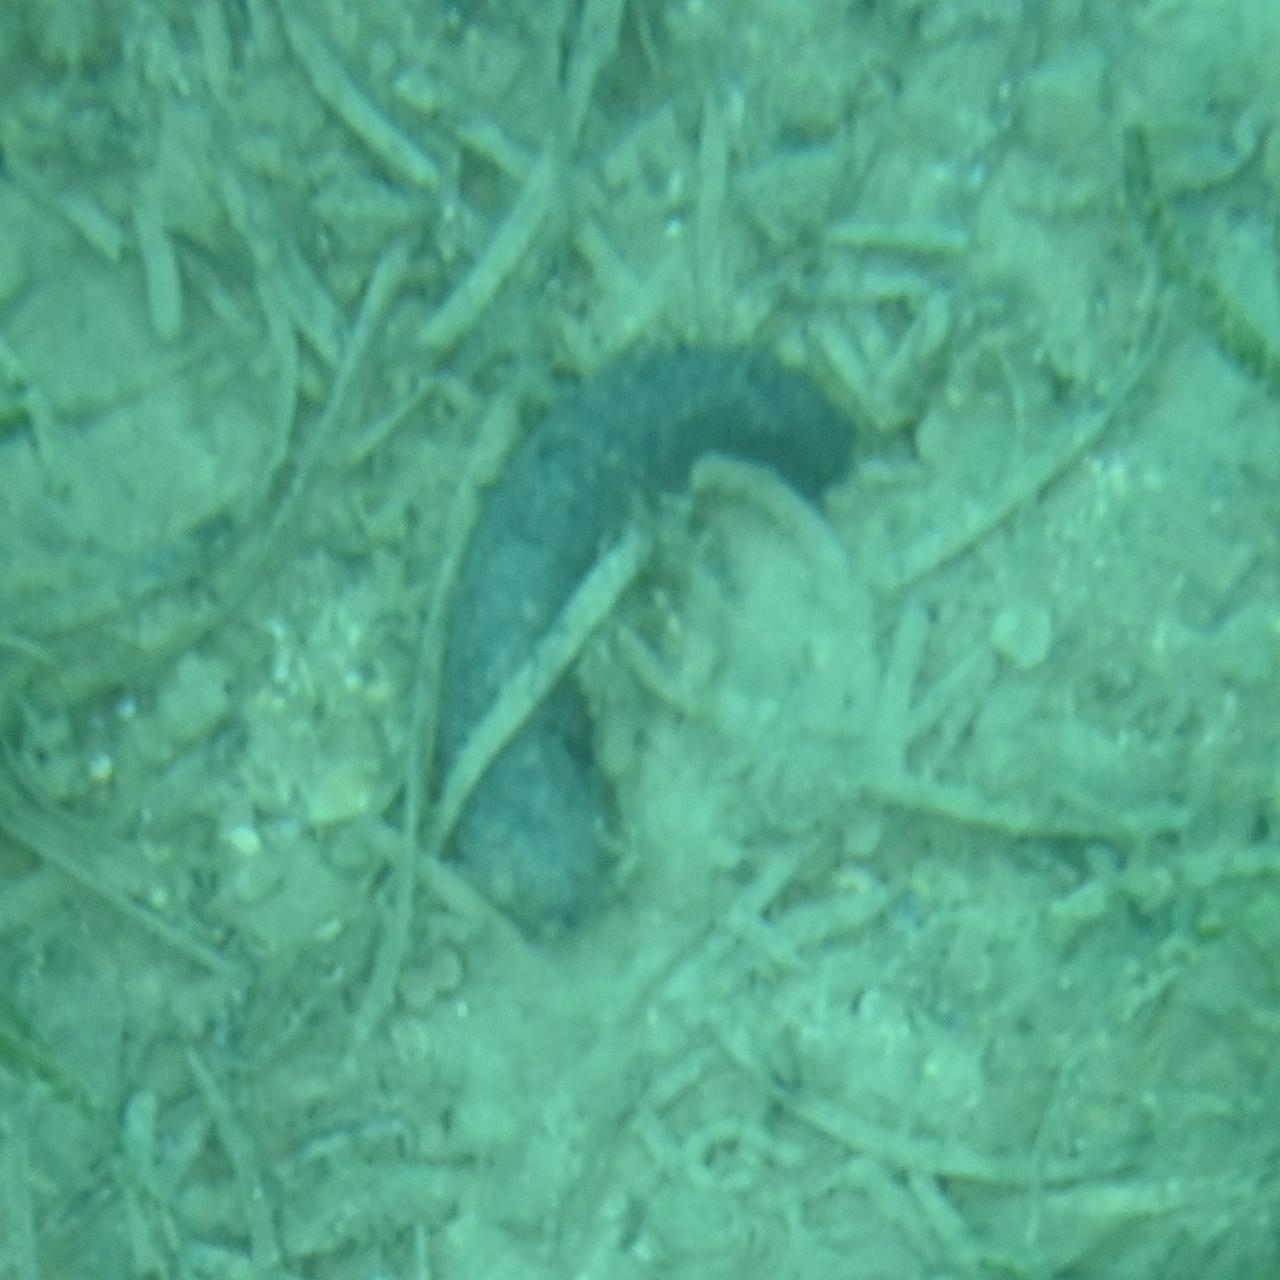Holothuria tubulosa: (423, 332, 857, 948)
